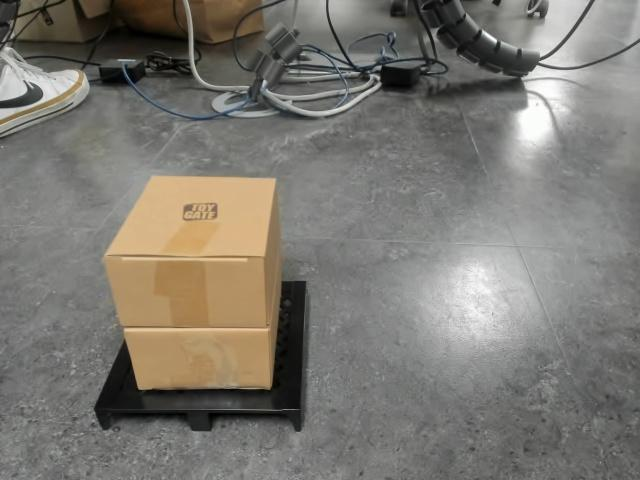box: (95, 175, 313, 435)
